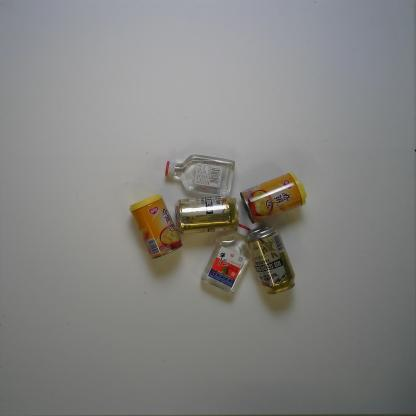Alcohol: (200, 223, 251, 296), (243, 225, 296, 295), (164, 154, 236, 196), (174, 195, 240, 236)
Canned Food: (129, 192, 183, 260), (240, 172, 308, 225)
